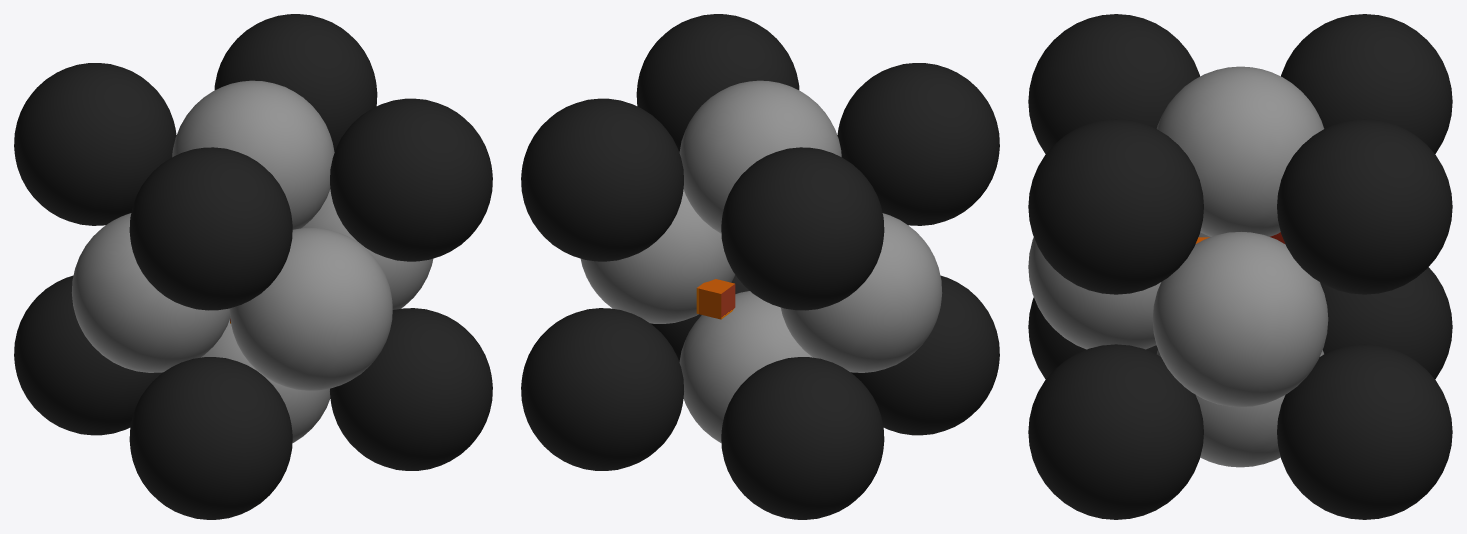
The model's file is solid_state_qn_035.glb.
The picture shows the model from 3 angles, left to right: view 1: azimuth 30°, elevation 25°; view 2: azimuth 150°, elevation 25°; view 3: azimuth 270°, elevation 25°; orthographic projection. The views are drawn at different scales.
Parts seen in each view (by area): view 1: Icosphere.086, Icosphere.089, Icosphere.082, Icosphere.087, Icosphere.090, Icosphere.085, Icosphere.093, Icosphere.091, Icosphere.083, Icosphere.088, Icosphere.092, Icosphere.094; view 2: Icosphere.087, Icosphere.088, Icosphere.083, Icosphere.084, Icosphere.086, Icosphere.093, Icosphere.091, Icosphere.082, Icosphere.089, Icosphere.094, Icosphere.092, Cube.025 (+1 smaller); view 3: Icosphere.088, Icosphere.089, Icosphere.085, Icosphere.084, Icosphere.094, Icosphere.091, Icosphere.086, Icosphere.087, Icosphere.083, Icosphere.090, Icosphere.092, Icosphere.082.
Boxes of the visible parts, x1=… form: Icosphere.086: x1=129, y1=147, x2=292, y2=310; Icosphere.089: x1=330, y1=98, x2=492, y2=261; Icosphere.082: x1=129, y1=357, x2=292, y2=519; Icosphere.087: x1=14, y1=63, x2=176, y2=225; Icosphere.090: x1=229, y1=227, x2=392, y2=390; Icosphere.085: x1=330, y1=308, x2=492, y2=470; Icosphere.093: x1=71, y1=213, x2=230, y2=372; Icosphere.091: x1=172, y1=80, x2=334, y2=229; Icosphere.083: x1=14, y1=275, x2=162, y2=435; Icosphere.088: x1=214, y1=14, x2=377, y2=151; Icosphere.092: x1=201, y1=319, x2=330, y2=443; Icosphere.094: x1=302, y1=189, x2=433, y2=309; Icosphere.087: x1=721, y1=147, x2=884, y2=310; Icosphere.088: x1=521, y1=98, x2=683, y2=261; Icosphere.083: x1=721, y1=357, x2=884, y2=519; Icosphere.084: x1=521, y1=308, x2=683, y2=470; Icosphere.086: x1=837, y1=63, x2=999, y2=225; Icosphere.093: x1=780, y1=213, x2=942, y2=372; Icosphere.091: x1=679, y1=80, x2=841, y2=233; Icosphere.082: x1=851, y1=275, x2=999, y2=435; Icosphere.089: x1=636, y1=14, x2=799, y2=152; Icosphere.094: x1=580, y1=189, x2=735, y2=323; Icosphere.092: x1=679, y1=291, x2=812, y2=443; Cube.025: x1=696, y1=279, x2=735, y2=319; Icosphere.088: x1=1277, y1=119, x2=1452, y2=294; Icosphere.089: x1=1028, y1=119, x2=1203, y2=294; Icosphere.085: x1=1028, y1=344, x2=1203, y2=519; Icosphere.084: x1=1277, y1=344, x2=1452, y2=519; Icosphere.094: x1=1152, y1=232, x2=1328, y2=407; Icosphere.091: x1=1156, y1=66, x2=1324, y2=236; Icosphere.086: x1=1028, y1=14, x2=1199, y2=153; Icosphere.087: x1=1281, y1=14, x2=1452, y2=153; Icosphere.083: x1=1320, y1=267, x2=1452, y2=379; Icosphere.090: x1=1028, y1=237, x2=1160, y2=349; Icosphere.092: x1=1157, y1=349, x2=1323, y2=467; Icosphere.082: x1=1028, y1=297, x2=1157, y2=379.
Size of the model in its own units: 4.83 by 4.83 by 4.83.
Materials: 1 (1 with a texture image).
